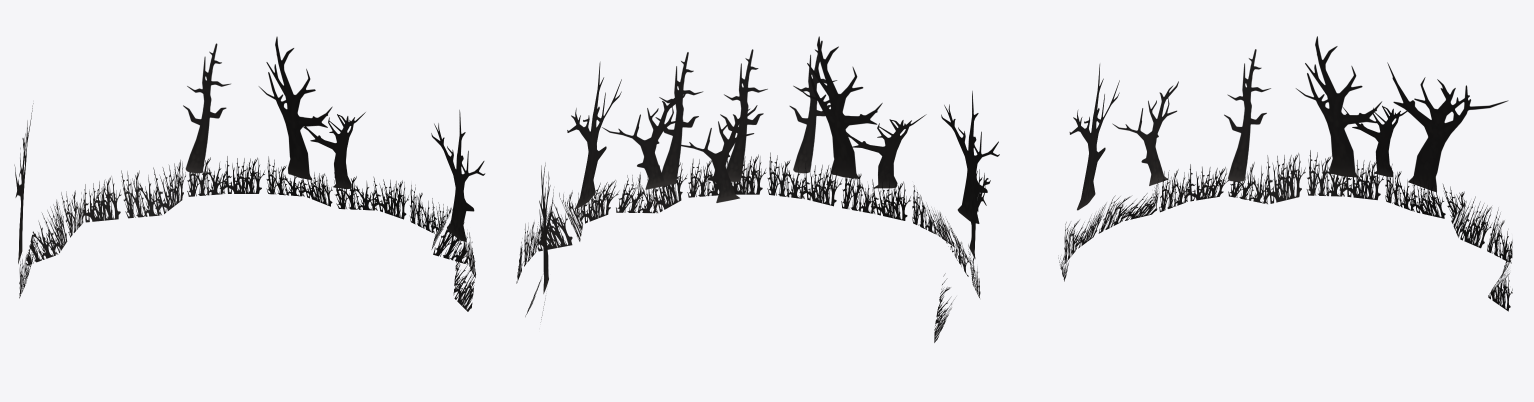
The model's file is village_trees_inner.gltf.
The picture shows the model from 3 angles, left to right: view 1: azimuth 30°, elevation 25°; view 2: azimuth 150°, elevation 25°; view 3: azimuth 270°, elevation 25°; orthographic projection.
Parts seen in each view (by area): view 1: tree8.004; view 2: tree8.004; view 3: tree8.004.
Boxes of the visible parts, bbox=[...] form: tree8.004: bbox=[14, 36, 485, 311]; tree8.004: bbox=[516, 36, 999, 342]; tree8.004: bbox=[1058, 36, 1512, 311].
Bounding box in the file's own units: 30.94 × 13.61 × 32.67.
1 material, 1 textured.
